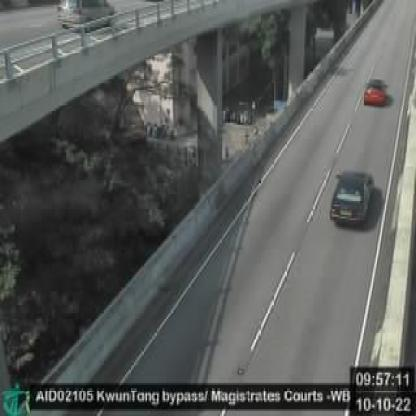Car: (330, 167, 373, 227), (363, 78, 388, 106)
